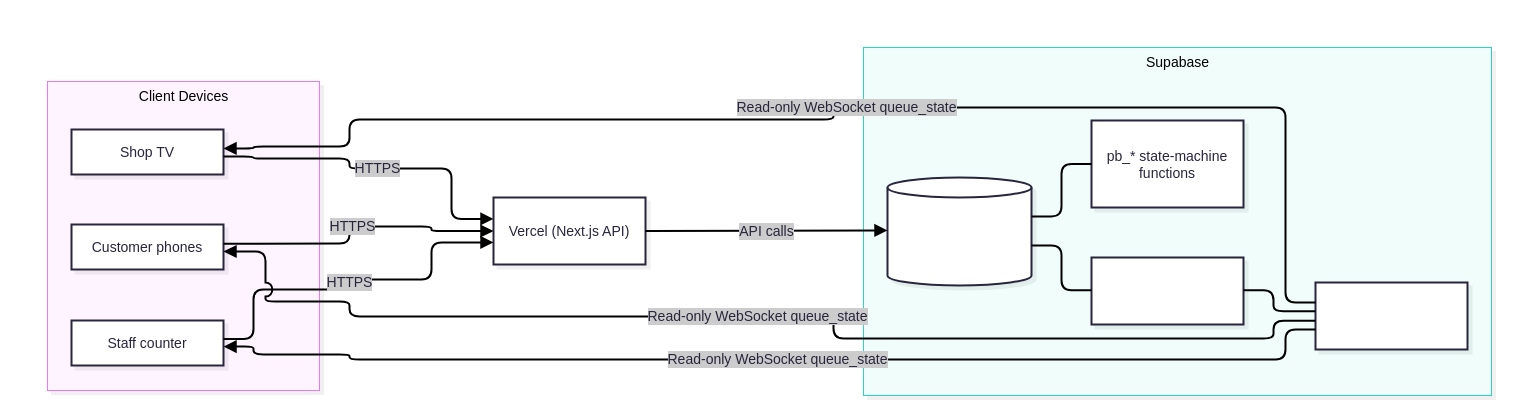
This 1513x417 diagram has some shape labels left out. The shapes that lost their labels are listed below. From the top down, each one's centre as x and y in pixels, then its label:
[961,233]: Supabase Postgres
[1169,292]: queue_state (public snapshot)
[1393,317]: Supabase Realtime
